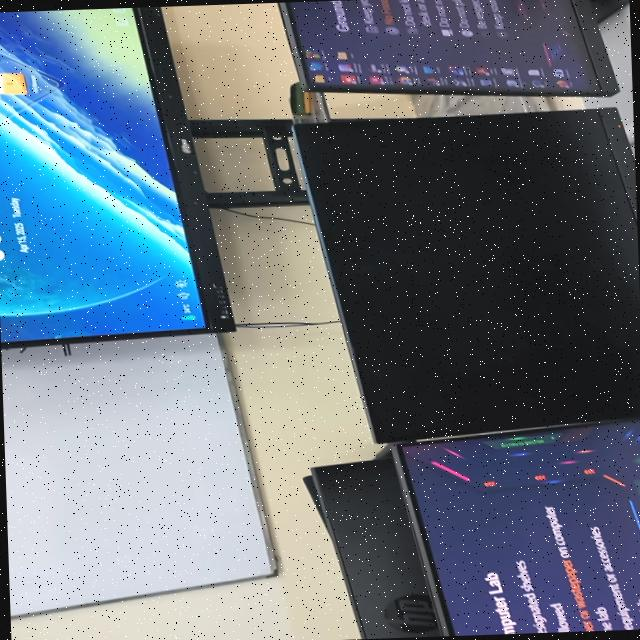Digital board: (0, 5, 233, 348)
Monitor: (295, 108, 640, 441), (395, 419, 640, 636), (280, 0, 617, 95), (304, 456, 441, 639)
